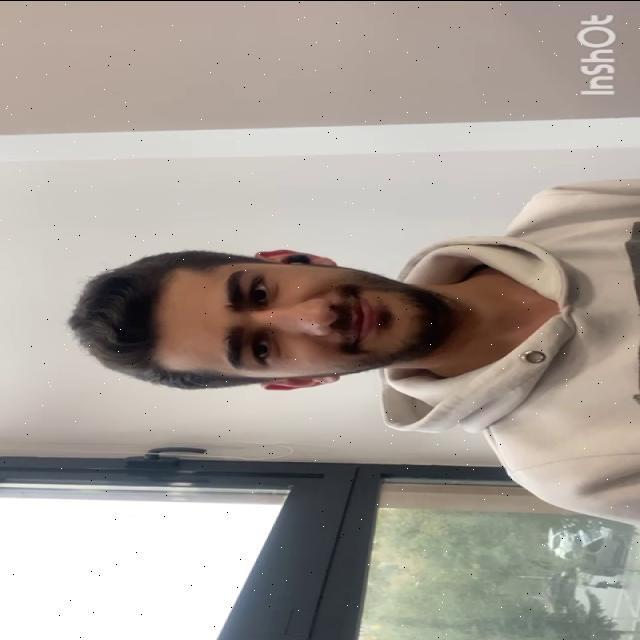happy: (154, 254, 434, 383)
